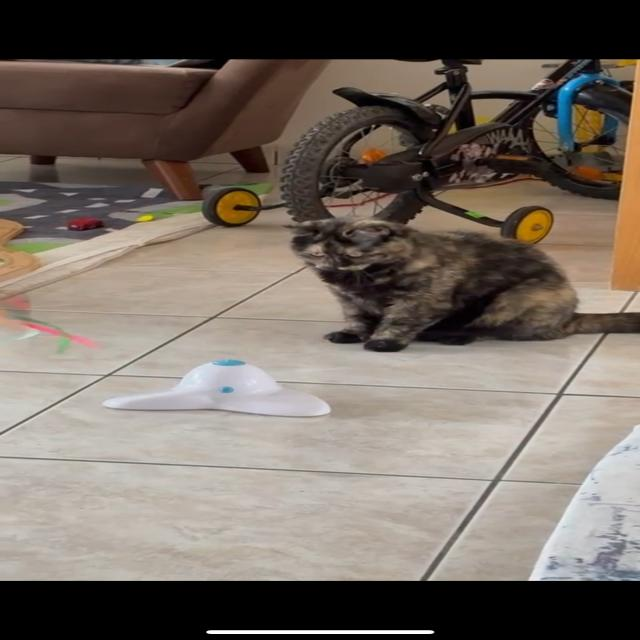authorized: (282, 215, 638, 352)
